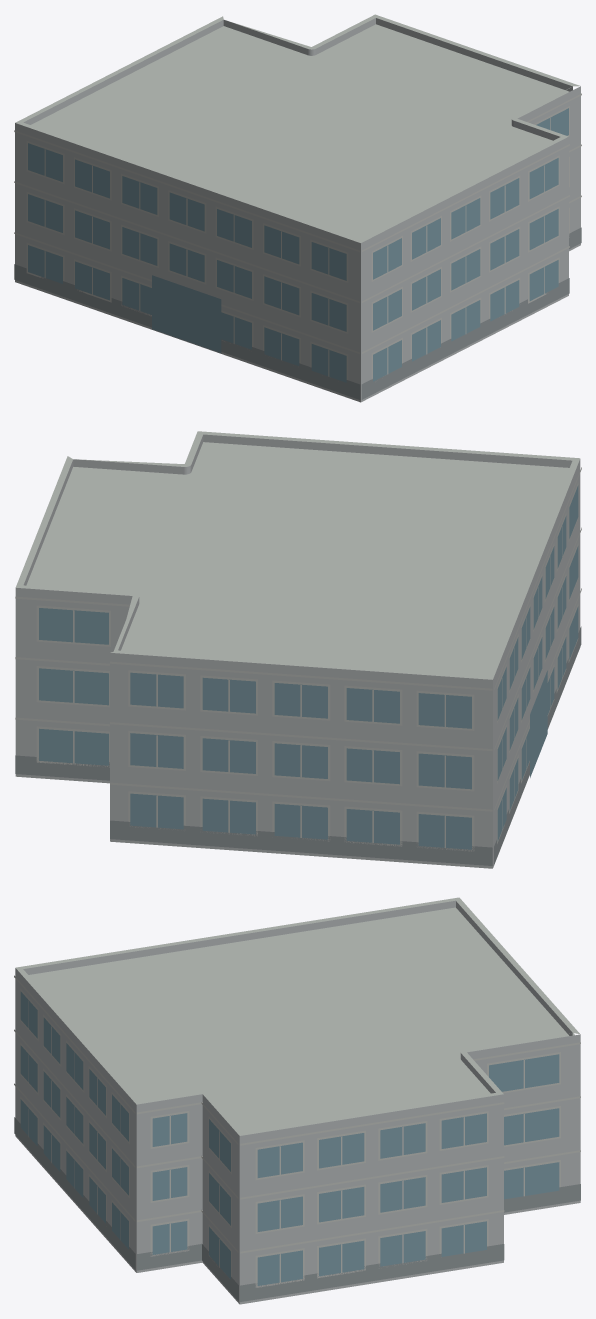
The model's file is public-07418b97-1521-4a3a-b44f-47725b743f6c.glb.
The picture shows the model from 3 angles, top to bottom: view 1: azimuth 30°, elevation 25°; view 2: azimuth 150°, elevation 25°; view 3: azimuth 270°, elevation 25°; orthographic projection. The views are drawn at different scales.
Parts seen in each view (by area): view 1: public-07418b97-1521-4a3a-b44f-47725b743f6c; view 2: public-07418b97-1521-4a3a-b44f-47725b743f6c; view 3: public-07418b97-1521-4a3a-b44f-47725b743f6c.
Boxes of the visible parts, left/top/right/bottom form: public-07418b97-1521-4a3a-b44f-47725b743f6c: left=14, top=14, right=581, bottom=402; public-07418b97-1521-4a3a-b44f-47725b743f6c: left=15, top=431, right=581, bottom=868; public-07418b97-1521-4a3a-b44f-47725b743f6c: left=14, top=897, right=580, bottom=1304.
Size of the model in its own units: 27.92 by 9.15 by 27.95.
